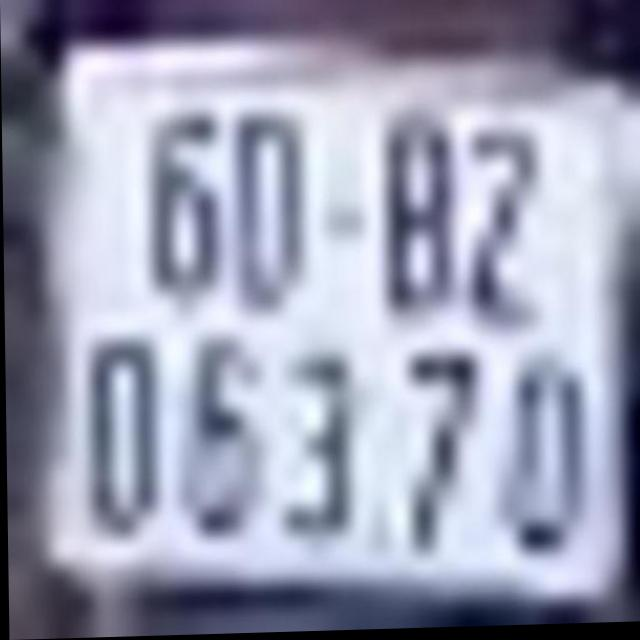0: (73, 327, 165, 542), (500, 347, 590, 564), (229, 103, 306, 319)
2: (464, 114, 545, 330)
3: (281, 352, 357, 553)
6: (182, 333, 271, 548), (141, 103, 219, 311)
7: (391, 336, 487, 569)
B: (372, 107, 457, 333)
